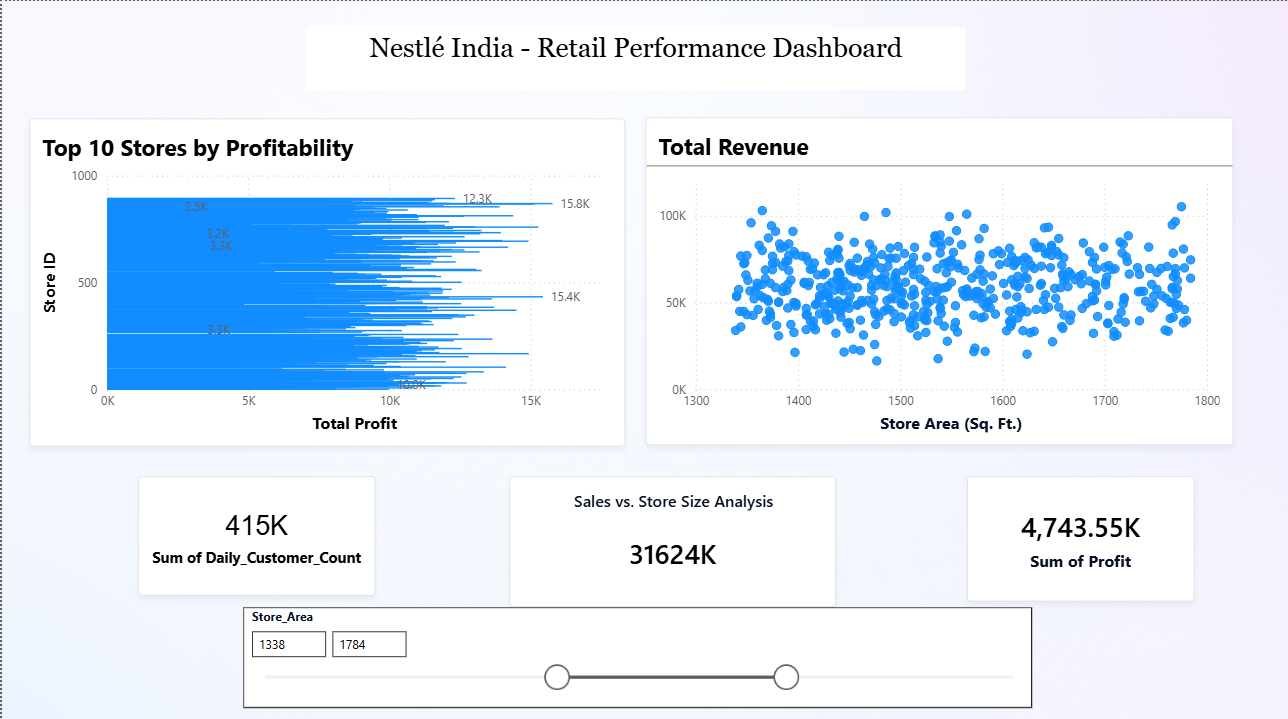

What the dashboard file says about the page in this screenshot:
{"tool":"powerbi","page":{"name":"Page 1","canvas":[1280,720],"ordinal":0},"visuals":[{"type":"scatterChart","title":"Total Revenue","fields":{"X":["Sum(Stores.Store_Area)"],"Y":["Sum(Stores.Store_Sales)"],"Category":["Stores.Store ID "]},"box":[640.3,115.3,584.7,326.4],"z":0},{"type":"clusteredBarChart","title":"Top 10 Stores by Profitability","fields":{"Y":["Sum(Stores.Profit)"],"Category":["Stores.Store ID "]},"box":[27.8,116.7,593.1,326.4],"z":1000},{"type":"card","title":"Sales vs. Store Size Analysis","fields":{"Values":["Sum(Stores.Store_Sales)"]},"box":[505.6,472.2,325,130.6],"z":2000},{"type":"card","fields":{"Values":["Sum(Stores.Profit)"]},"box":[959.7,472.2,226.4,125],"z":3000},{"type":"card","fields":{"Values":["Sum(Stores.Daily_Customer_Count)"]},"box":[136.1,472.2,236.1,119.4],"z":4000},{"type":"slicer","fields":{"Values":["Stores.Store_Area"]},"box":[240.3,602.8,784.7,100],"z":5000},{"type":"textbox","box":[302.8,26.4,656.9,62.5],"z":6000}]}

Visuals, with their boxes in screenshot pixels (x1, y1, x2, y2), scaled from the page's 1280x720 canvas onto the 1288x719 screenshot:
"Total Revenue" scatterChart: (644,115,1233,441)
"Top 10 Stores by Profitability" clusteredBarChart: (28,117,625,442)
"Sales vs. Store Size Analysis" card: (509,472,836,602)
card - Sum(Stores.Profit): (966,472,1194,596)
card - Sum(Stores.Daily_Customer_Count): (137,472,375,591)
slicer - Stores.Store_Area: (242,602,1031,702)
textbox: (305,26,966,89)
